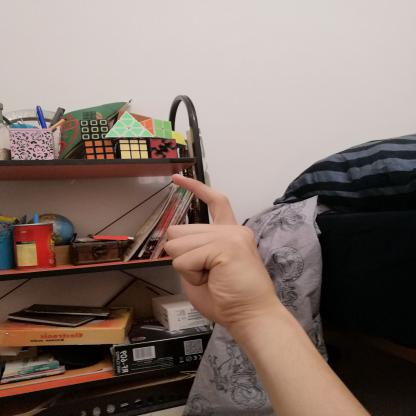RAA: (149, 166, 288, 330)
